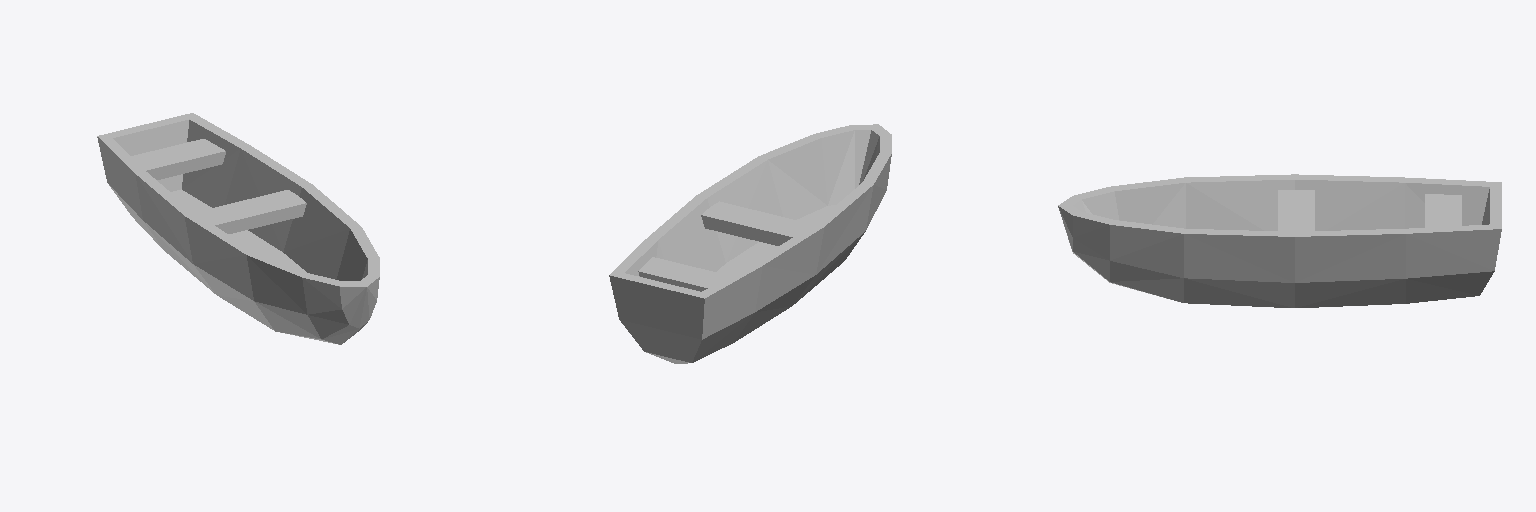
Rendered from Boat_0.obj.
The picture shows the model from 3 angles: view 1: azimuth 30°, elevation 25°; view 2: azimuth 150°, elevation 25°; view 3: azimuth 270°, elevation 25°; orthographic projection.
Parts seen in each view (by area): view 1: Circle; view 2: Circle; view 3: Circle.
Boxes of the visible parts, box(x1,y1,x2,y2) form: Circle: box(97, 113, 379, 344); Circle: box(609, 124, 891, 363); Circle: box(1058, 174, 1501, 307).
Bounding box in the file's own units: 2 × 1.5 × 6.